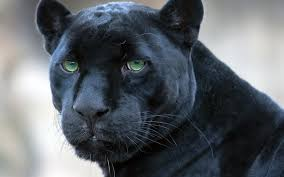panther: (33, 3, 283, 177)
